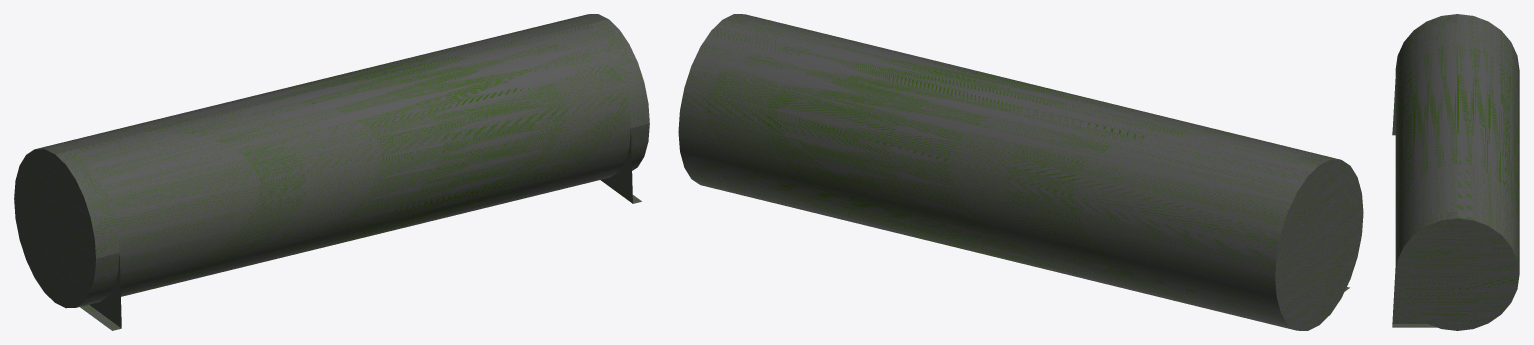
File: original-2.obj
3 renders of one model, left to right at view 1: azimuth 30°, elevation 25°; view 2: azimuth 150°, elevation 25°; view 3: azimuth 270°, elevation 25°, orthographic. The views are drawn at different scales.
Visible parts, largest first — view 1: #ID449; view 2: #ID449; view 3: #ID449.
Boxes of the visible parts, bbox=[...] form: #ID449: bbox=[14, 14, 649, 330]; #ID449: bbox=[678, 14, 1363, 330]; #ID449: bbox=[1392, 14, 1519, 330].
Size of the model in its own units: 0.178 by 0.0456 by 0.0468.
